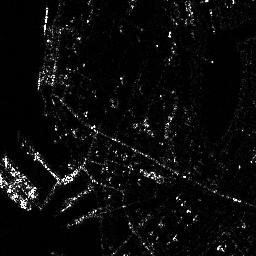ship: (1, 155, 38, 200), (1, 174, 32, 211)
